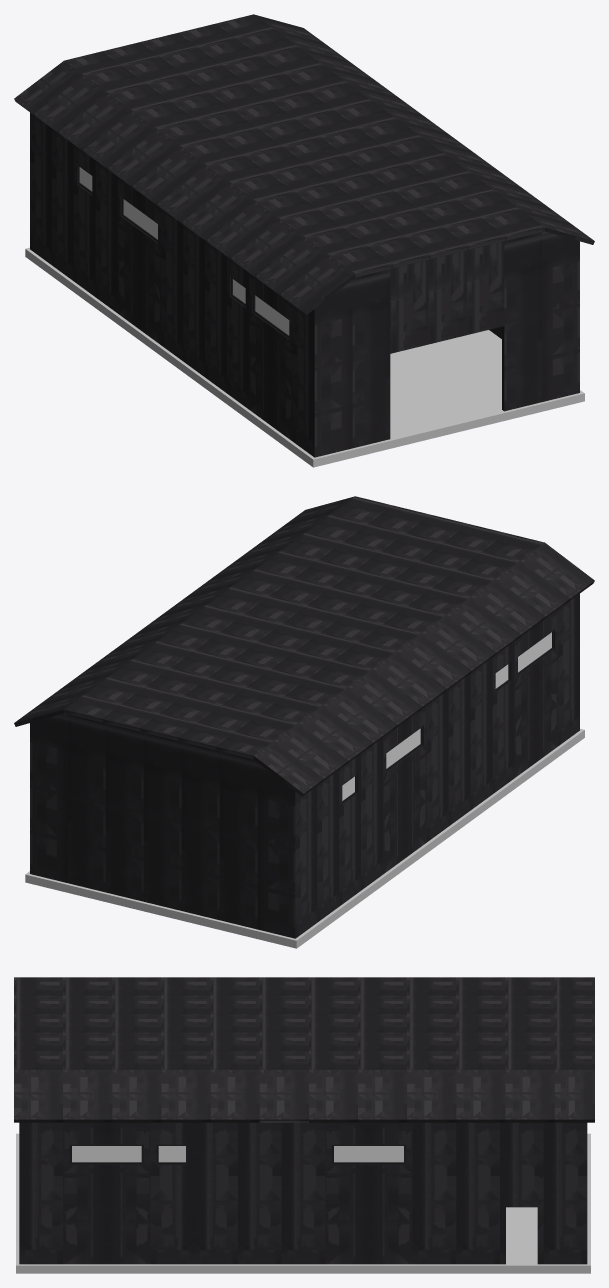
File: Hangar1.fbx
3 renders of one model, top to bottom at view 1: azimuth 30°, elevation 25°; view 2: azimuth 150°, elevation 25°; view 3: azimuth 270°, elevation 25°, orthographic.
Visible parts, largest first — view 1: Hangar1, Hangar1_Windows; view 2: Hangar1, Hangar1_Windows; view 3: Hangar1, Hangar1_Windows.
Boxes of the visible parts, x1,y1,x2,y2 form: Hangar1: (14,14,594,467); Hangar1_Windows: (79,167,289,335); Hangar1: (14,496,594,948); Hangar1_Windows: (342,632,551,800); Hangar1: (14,977,594,1273); Hangar1_Windows: (72,1146,403,1162).
Bounding box in the file's own units: 15.28 × 9.3 × 26.6.
